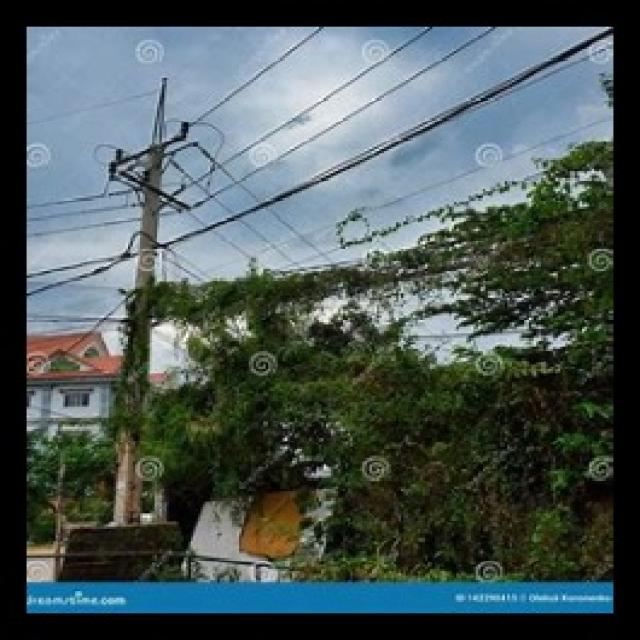critical vegetation: (125, 248, 617, 408)
